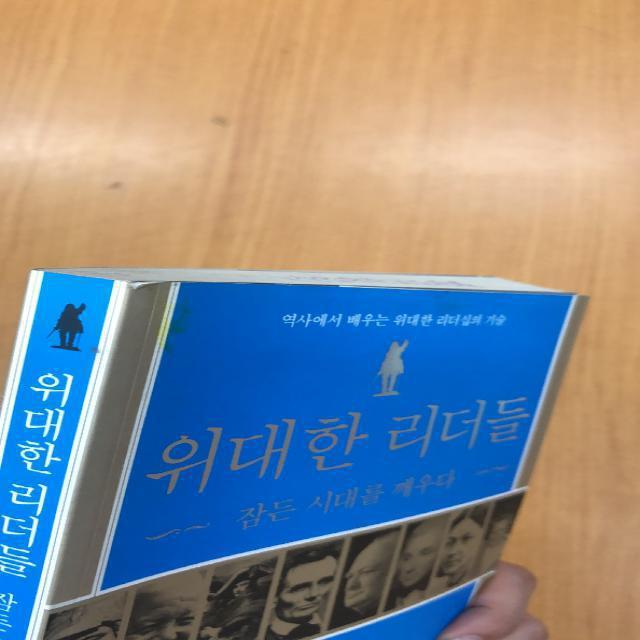Wornout: (122, 276, 202, 302)
